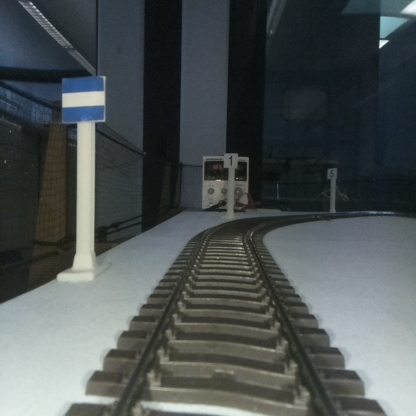start: (63, 75, 104, 278)
white-info-1: (224, 153, 237, 217)
white-info-5: (328, 167, 337, 212)
